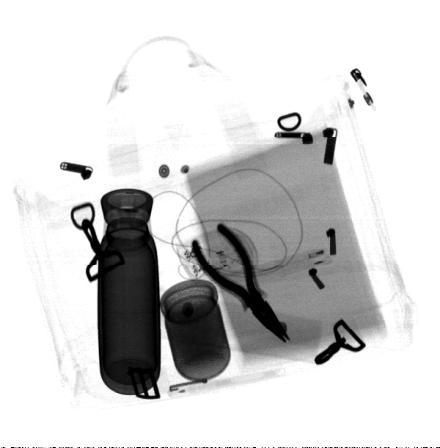Pliers: (190, 221, 293, 345)
